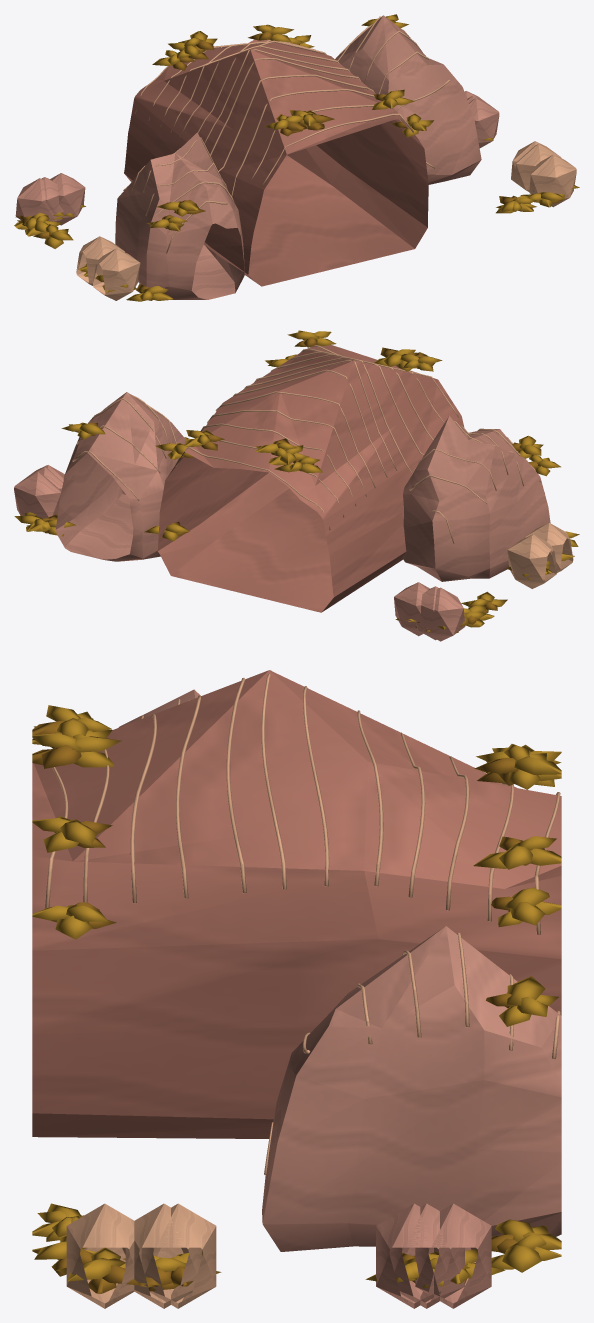
Rendered from PilotRidgeE_3.fbx.
3 renders of one model, top to bottom at view 1: azimuth 30°, elevation 25°; view 2: azimuth 150°, elevation 25°; view 3: azimuth 270°, elevation 25°, orthographic. The views are drawn at different scales.
Parts seen in each view (by area): view 1: PilotRidgeE_3__Geometry; view 2: PilotRidgeE_3__Geometry; view 3: PilotRidgeE_3__Geometry.
Boxes of the visible parts, box(x1,y1,x2,y2) form: PilotRidgeE_3__Geometry: box(14, 14, 579, 301); PilotRidgeE_3__Geometry: box(14, 330, 579, 641); PilotRidgeE_3__Geometry: box(32, 670, 561, 1308).
Size of the model in its own units: 4 by 1.6 by 2.
